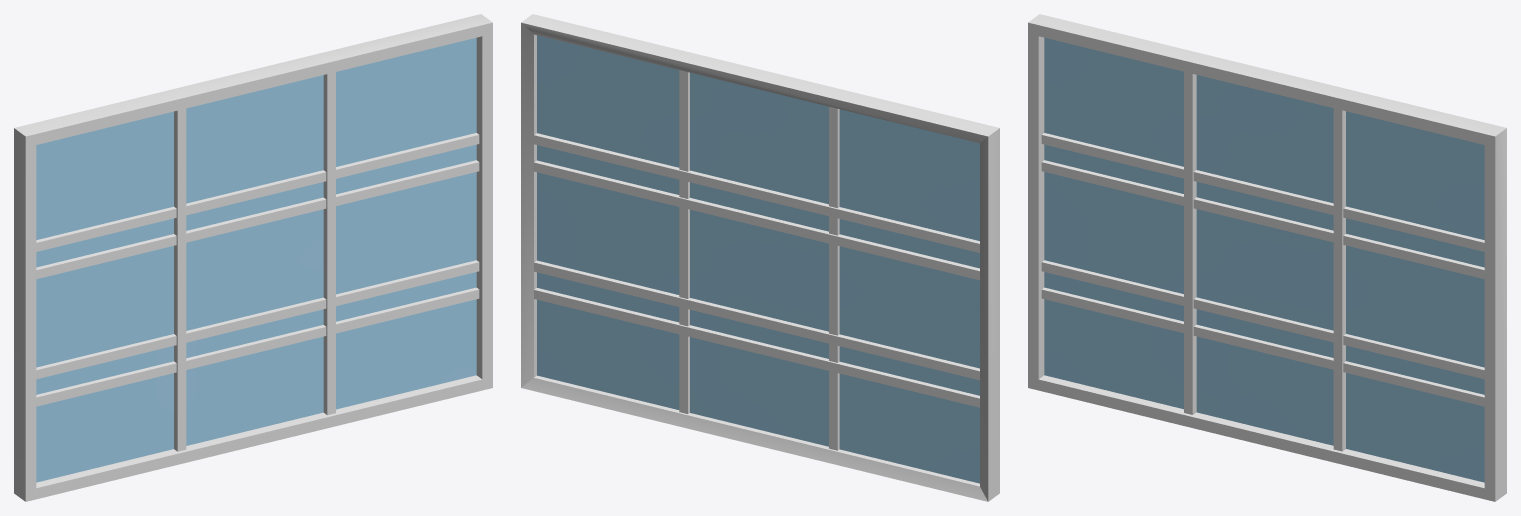
The model's file is window_028.fbx.
The picture shows the model from 3 angles, left to right: view 1: azimuth 30°, elevation 25°; view 2: azimuth 150°, elevation 25°; view 3: azimuth 330°, elevation 25°; orthographic projection.
Parts seen in each view (by area): view 1: window_028; view 2: window_028; view 3: window_028.
Part boxes in pixels (x1=…): window_028: x1=14, y1=14, x2=492, y2=501; window_028: x1=521, y1=14, x2=999, y2=501; window_028: x1=1028, y1=14, x2=1506, y2=501.
Bounding box in the file's own units: 308 × 13.39 × 230.
